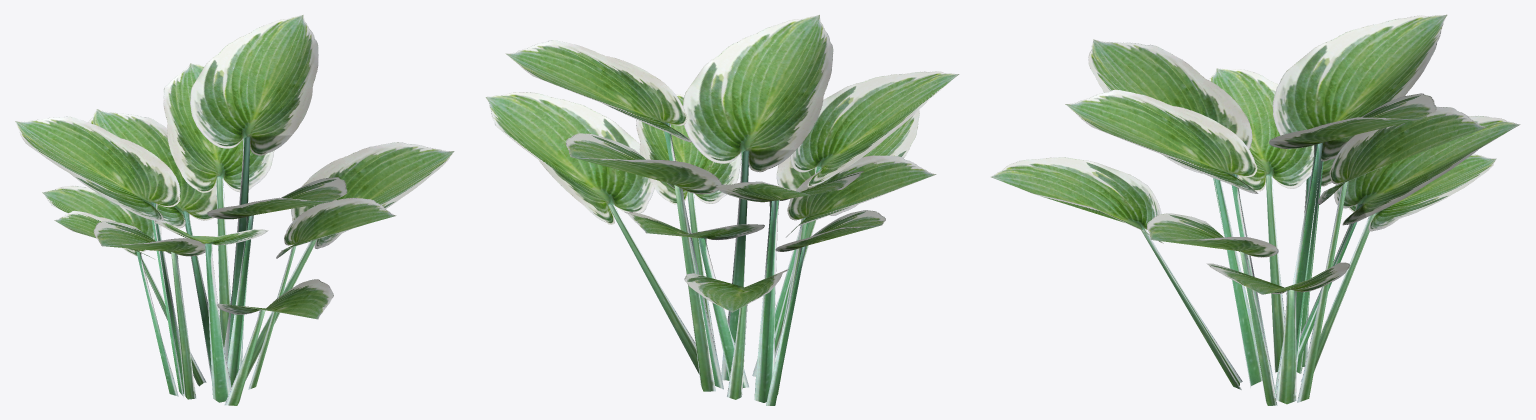
File: plant_small_wg_05J.fbx
3 renders of one model, left to right at view 1: azimuth 30°, elevation 25°; view 2: azimuth 150°, elevation 25°; view 3: azimuth 270°, elevation 25°, orthographic. The views are drawn at different scales.
Parts seen in each view (by area): view 1: plant_small_wg_05J; view 2: plant_small_wg_05J; view 3: plant_small_wg_05J.
Boxes of the visible parts, box(x1,y1,x2,y2) form: plant_small_wg_05J: box(15, 15, 454, 405); plant_small_wg_05J: box(485, 15, 959, 405); plant_small_wg_05J: box(991, 14, 1520, 405).
Bounding box in the file's own units: 61.16 × 46.57 × 63.81.
